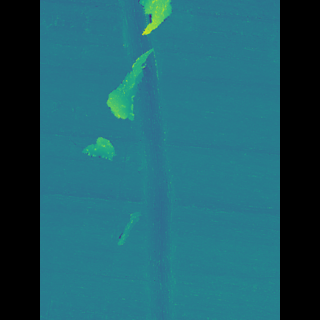Loch: (123, 0, 174, 320), (118, 45, 156, 122), (143, 0, 173, 34), (98, 131, 128, 164)
